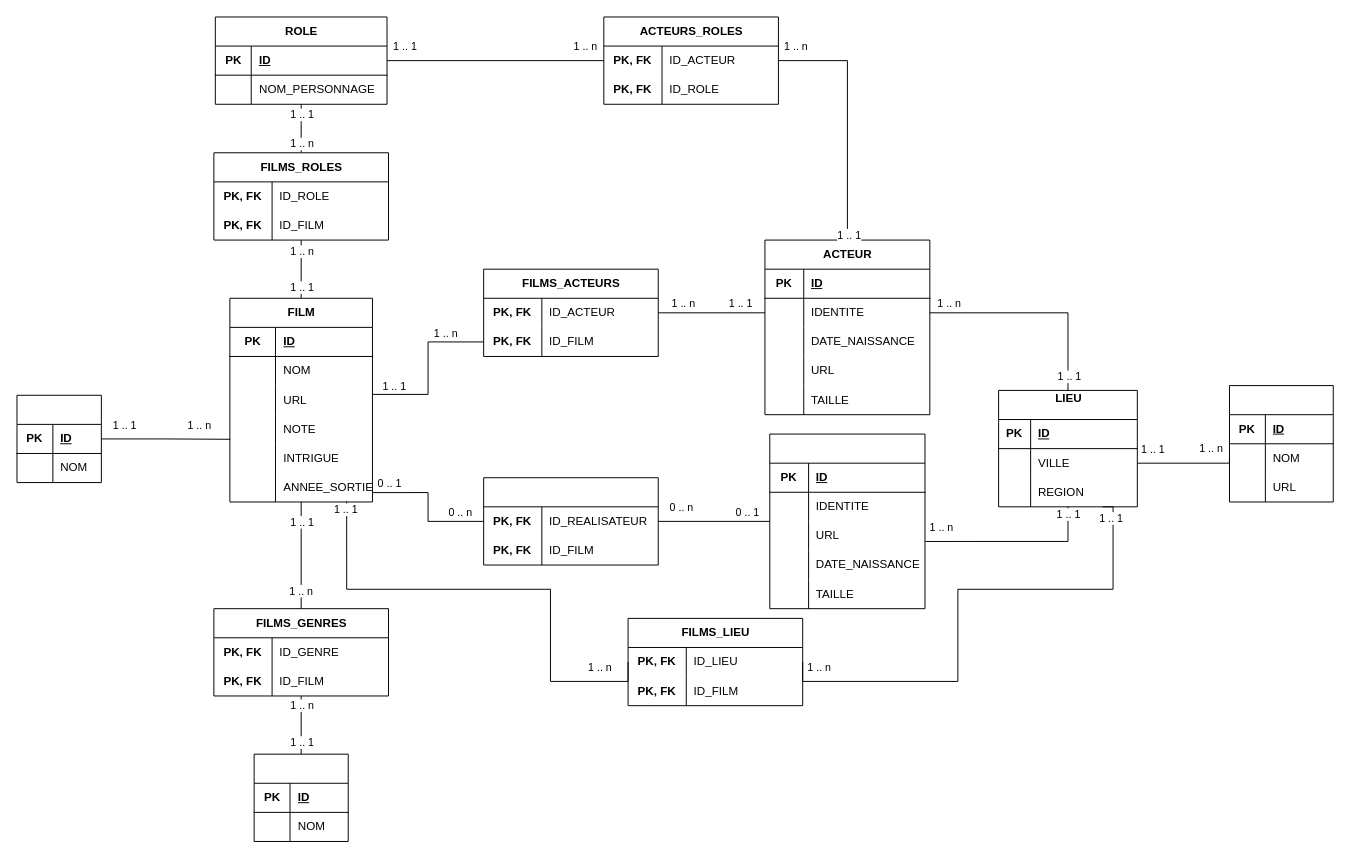
The diagram is 1350 pixels wide and 858 high, and some of its shapes have lost their labels. The shapes that lost their labels are listed below. From the top down, each one's box as (x1, y1, x2, y2) in pixels, then its label:
(16, 394, 101, 483): LANGUE
(1229, 385, 1333, 502): PAYS
(483, 477, 658, 565): FILMS_REALISATEURS
(769, 433, 925, 609): REALISATEUR
(253, 753, 348, 841): GENRE
